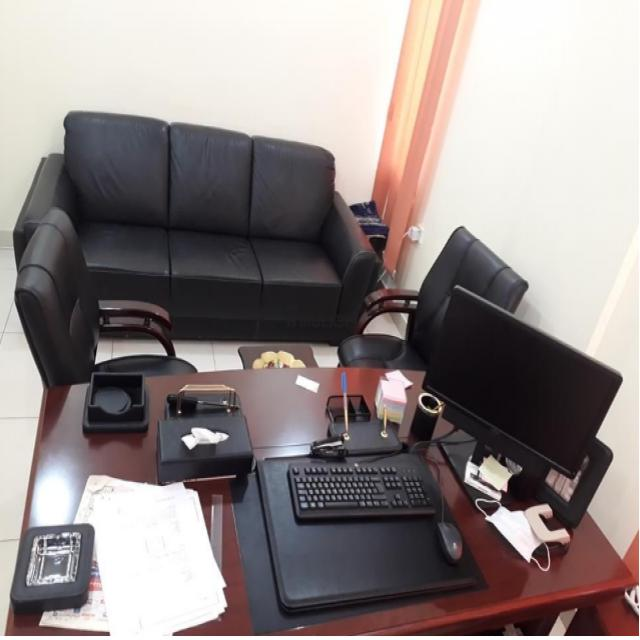a sofa: (21, 88, 383, 315)
chair: (352, 224, 503, 400), (20, 196, 152, 395)
computer: (442, 282, 603, 493)
desk: (40, 368, 612, 634)
